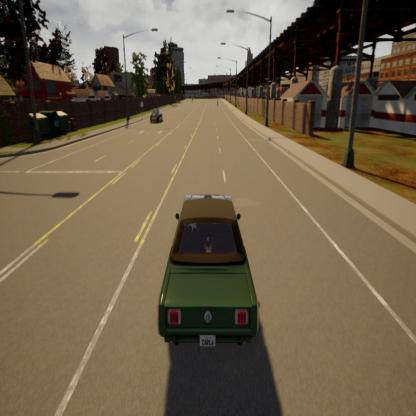Cars: (153, 186, 267, 358), (148, 104, 164, 128)
